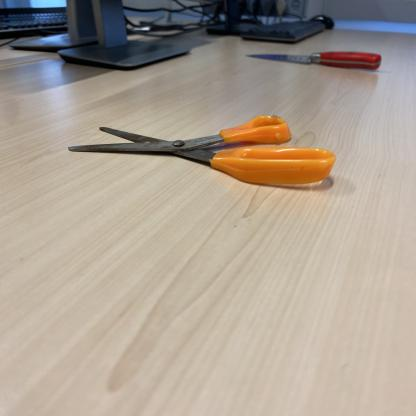Knife: (245, 49, 384, 73)
scissors: (66, 113, 338, 186)
